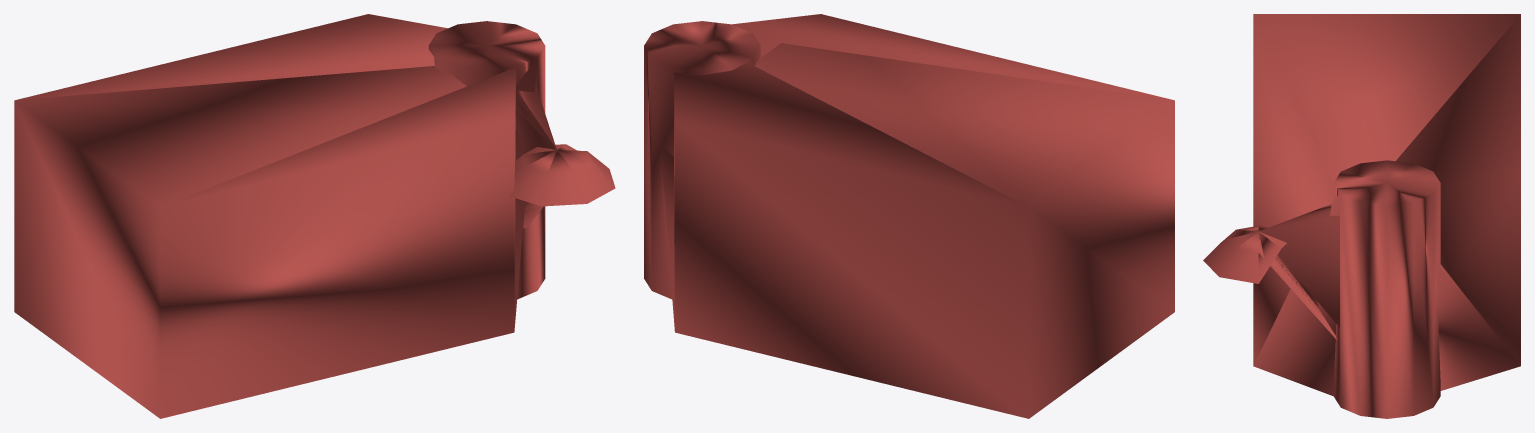
The model's file is meat.obj.
3 renders of one model, left to right at view 1: azimuth 30°, elevation 25°; view 2: azimuth 150°, elevation 25°; view 3: azimuth 270°, elevation 25°, orthographic. The views are drawn at different scales.
Bounding box in the file's own units: 3.58 × 1.76 × 2.38.
